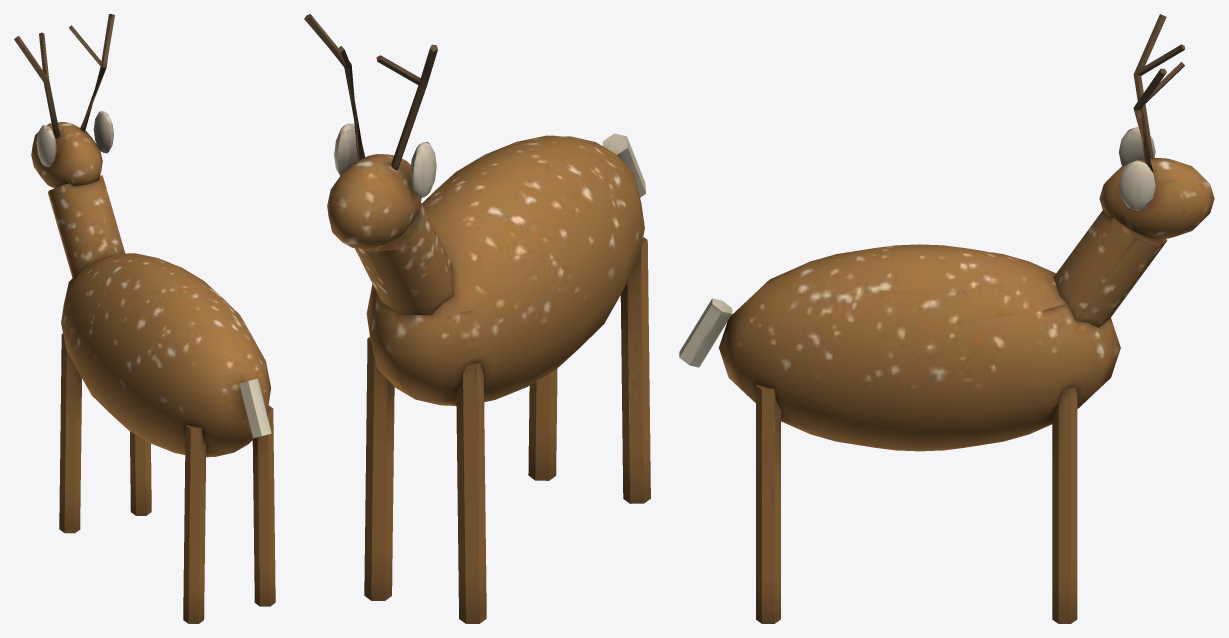
File: zoo_deer.glb
3 views of the same model, side by side, from view 1: azimuth 30°, elevation 25°; view 2: azimuth 150°, elevation 25°; view 3: azimuth 270°, elevation 25° (orthographic). The views are drawn at different scales.
Parts seen in each view (by area): view 1: body; view 2: body; view 3: body.
Boxes of the visible parts, x1=… form: body: x1=14, y1=14, x2=275, y2=623; body: x1=304, y1=14, x2=650, y2=623; body: x1=679, y1=14, x2=1214, y2=623.
Bounding box in the file's own units: 0.5412 × 1.87 × 1.63.
1 material, 1 textured.
